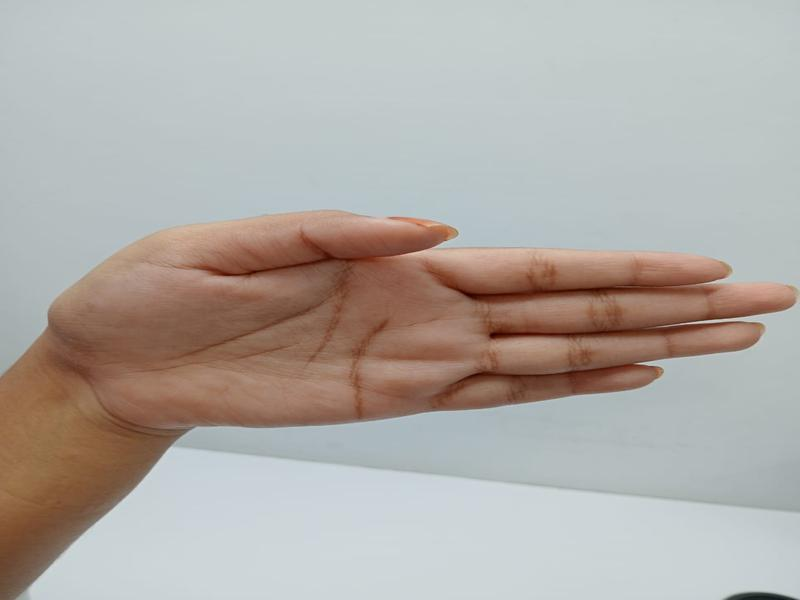DOWN: (2, 191, 800, 532)
